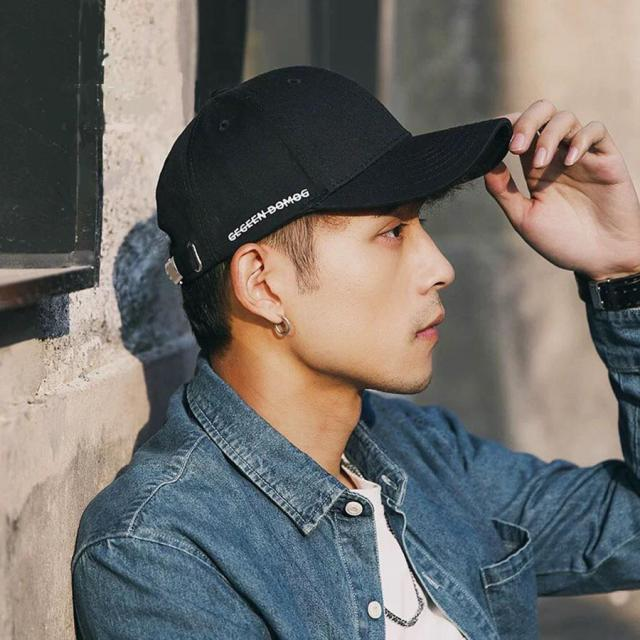no_helmet: (150, 61, 519, 296)
